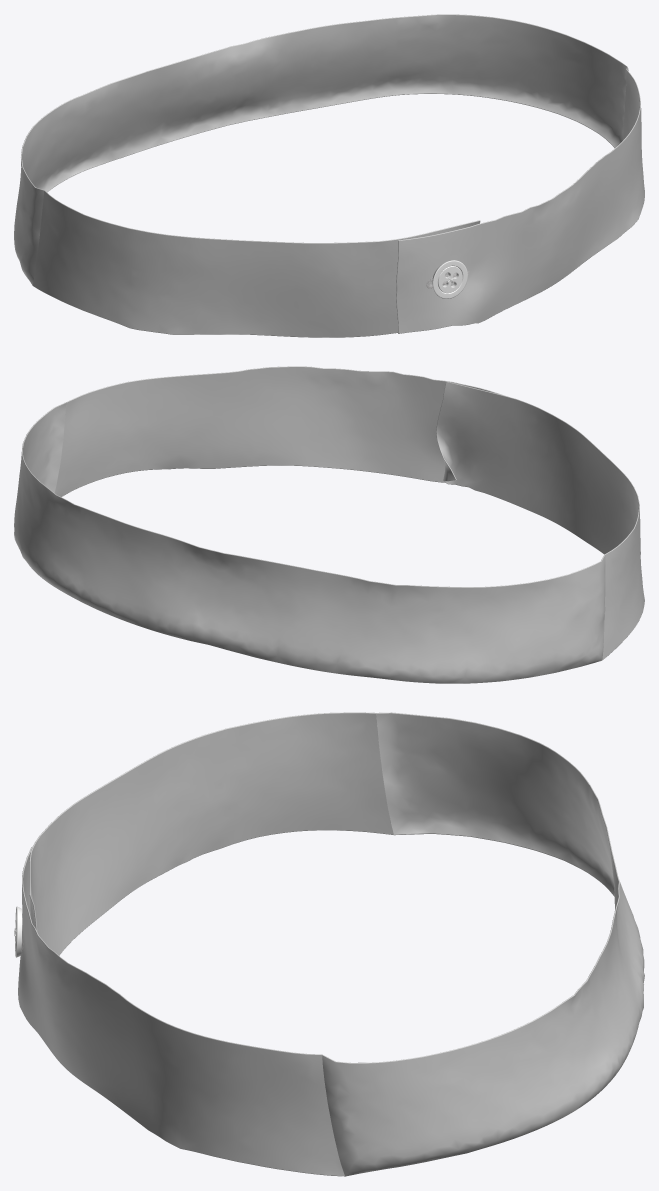
The model's file is normal.glb.
3 views of the same model, one above another, from view 1: azimuth 30°, elevation 25°; view 2: azimuth 150°, elevation 25°; view 3: azimuth 270°, elevation 25° (orthographic). The views are drawn at different scales.
Visible parts, largest first — view 1: Belt_Node, Belt_Node.001, Belt_Node.002, button; view 2: Belt_Node, Belt_Node.002, Belt_Node.001; view 3: Belt_Node, Belt_Node.001, Belt_Node.002.
Boxes of the visible parts, left/top/right/bottom form: Belt_Node: left=14, top=14, right=628, bottom=285; Belt_Node.001: left=33, top=190, right=480, bottom=337; Belt_Node.002: left=396, top=69, right=644, bottom=333; button: left=432, top=260, right=467, bottom=298; Belt_Node: left=14, top=402, right=605, bottom=683; Belt_Node.002: left=54, top=366, right=505, bottom=496; Belt_Node.001: left=436, top=381, right=644, bottom=659; Belt_Node: left=322, top=712, right=644, bottom=1176; Belt_Node.001: left=29, top=712, right=393, bottom=955; Belt_Node.002: left=18, top=847, right=344, bottom=1176.
Bounding box in the file's own units: 32.39 × 5.77 × 24.59.
3 materials, 1 textured.
